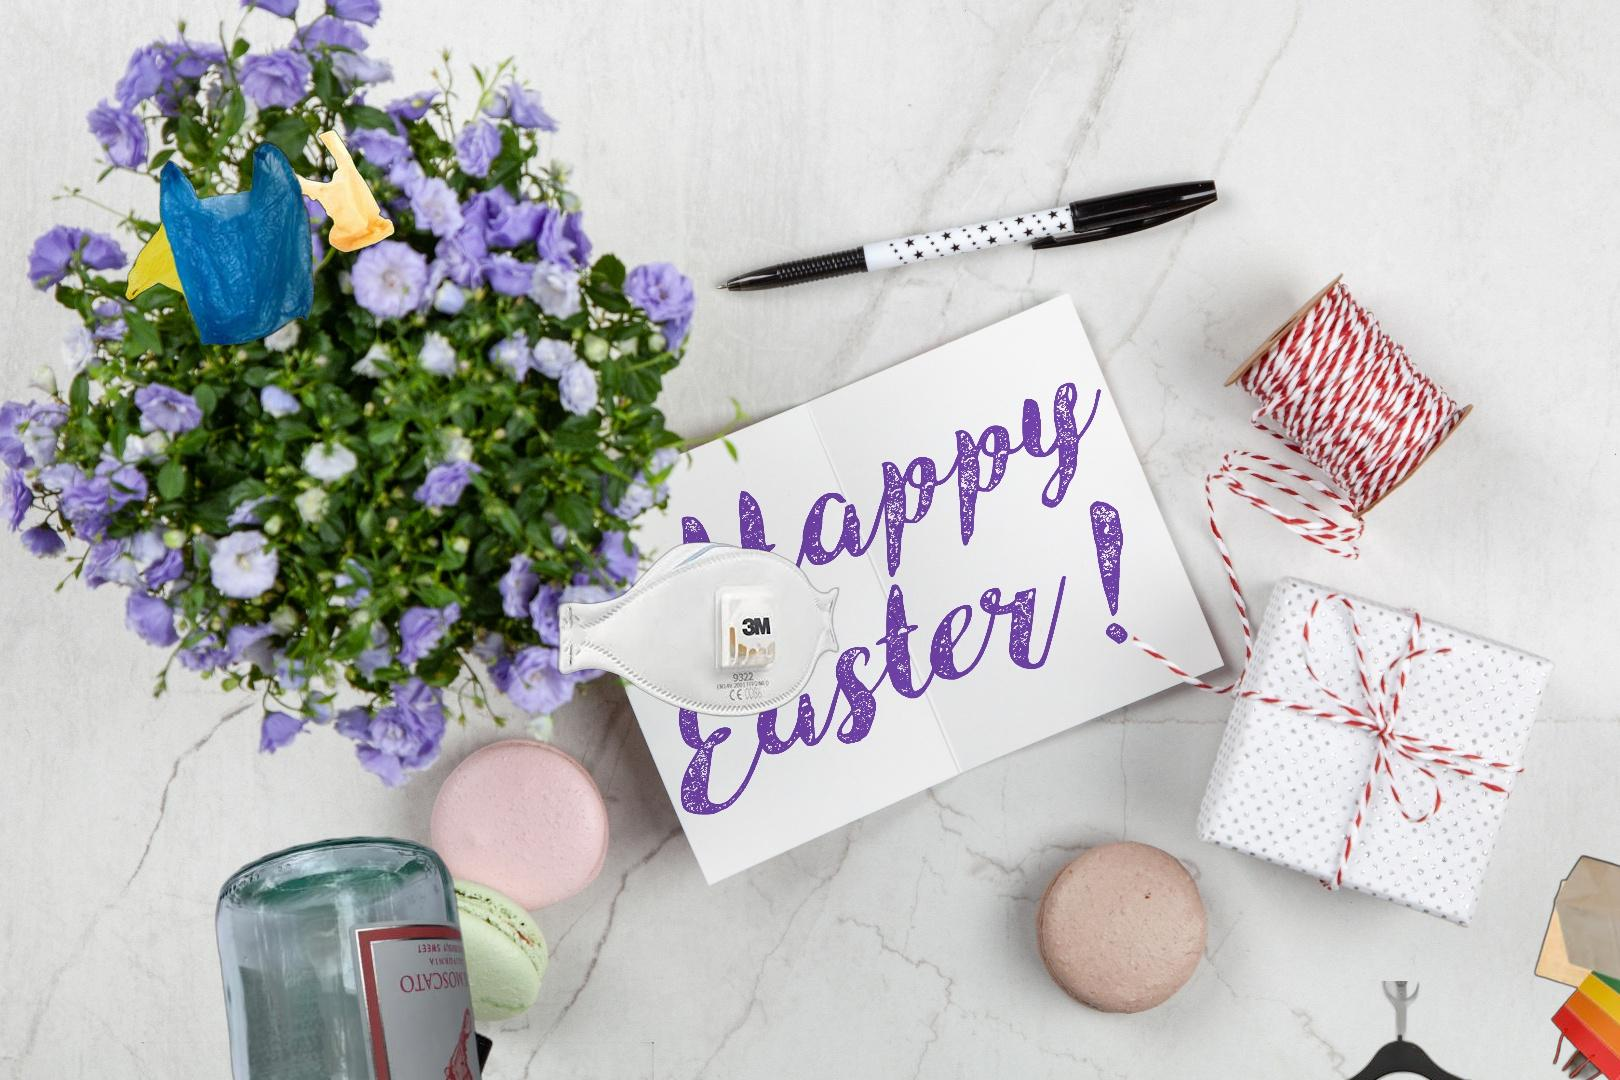clothes: (1246, 981, 1575, 1080)
glass: (212, 833, 501, 1080), (377, 1019, 495, 1080)
paper-bag: (1533, 852, 1620, 1080)
plastic-bag: (122, 127, 398, 397)
trash: (557, 540, 840, 718)
trashbox-cardboard: (142, 1041, 655, 1080)
